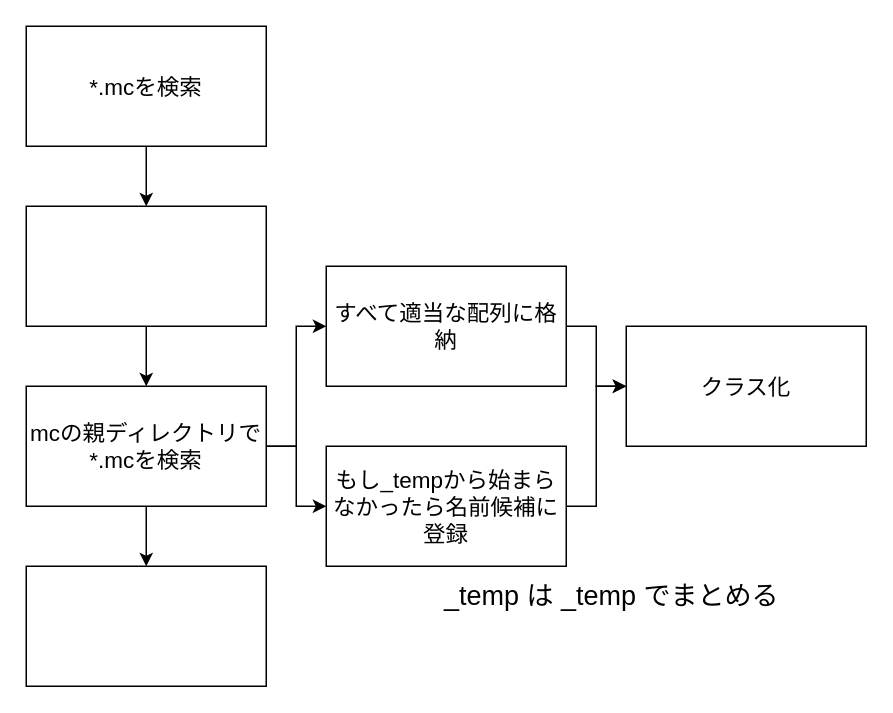
The diagram is 893 pixels wide and 713 high, and some of its shapes have lost their labels. The shapes that lost their labels are listed below. From the top down, each one's centre as x and y in pixels, then its label:
At point (145, 265): "見つけた".
At point (145, 625): "ディレクトリを鍵とする連想配列に格納".
